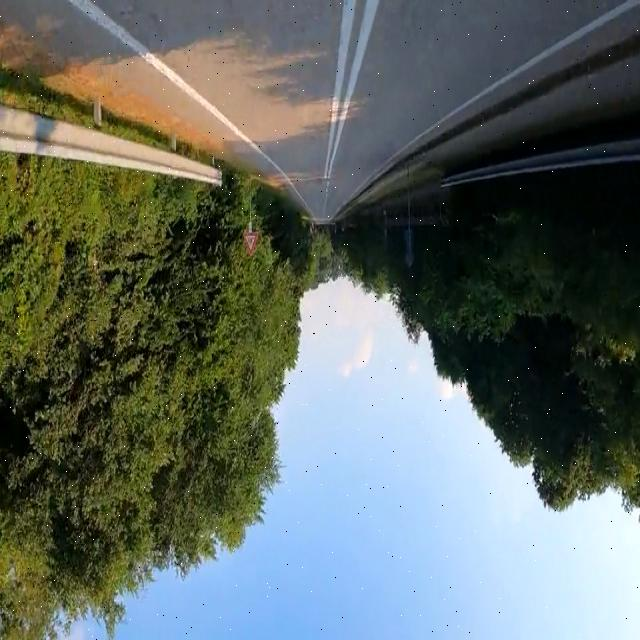lane: (70, 1, 311, 213), (380, 0, 640, 169), (328, 0, 379, 176), (325, 0, 355, 178)
